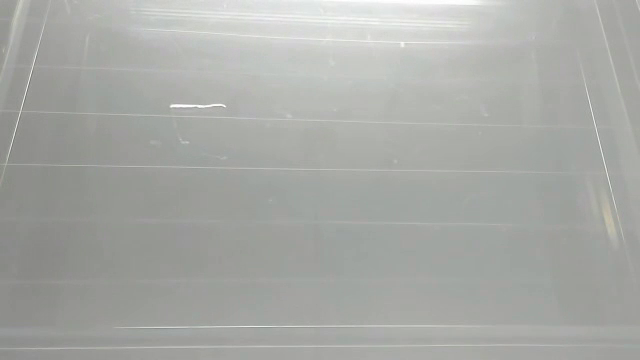alpha: (168, 100, 228, 114)
